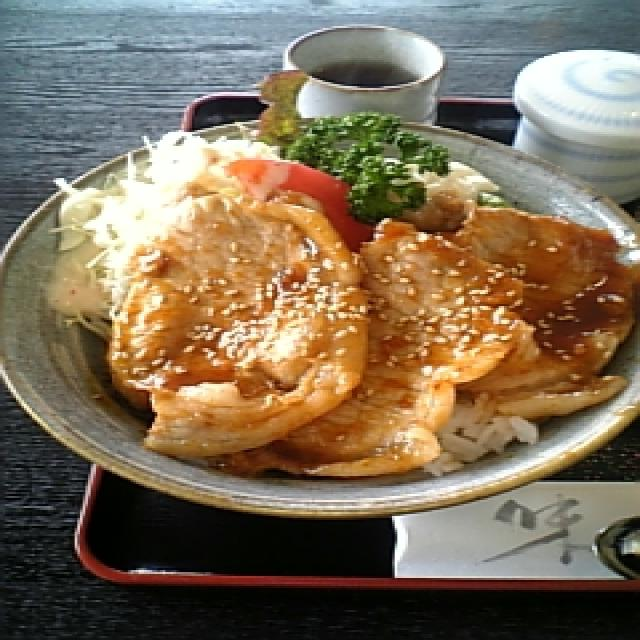猪肉菜式: (0, 120, 640, 512)
